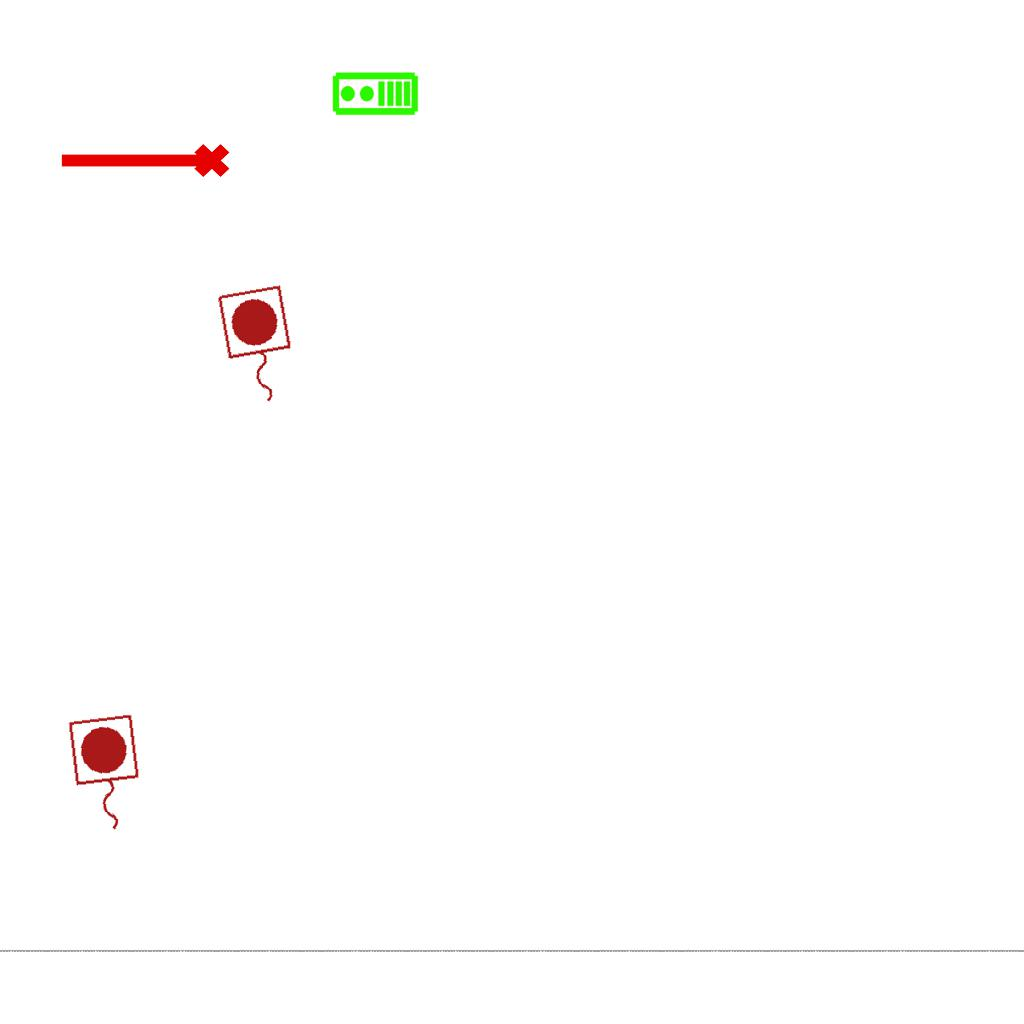ASR_Ansaugoeffnung: (56, 140, 232, 186)
Gegensprechanlage_mit_Video: (331, 71, 419, 118)
Zugtaster: (211, 280, 305, 414), (62, 710, 150, 840)
